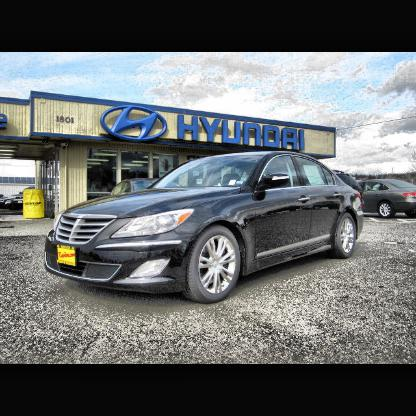Hyundai Genesis Sedan 2012: (43, 147, 367, 309)
